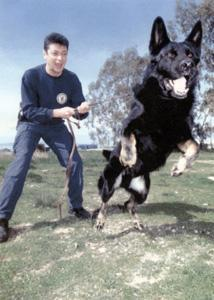German_shepherd: (95, 15, 204, 229)
